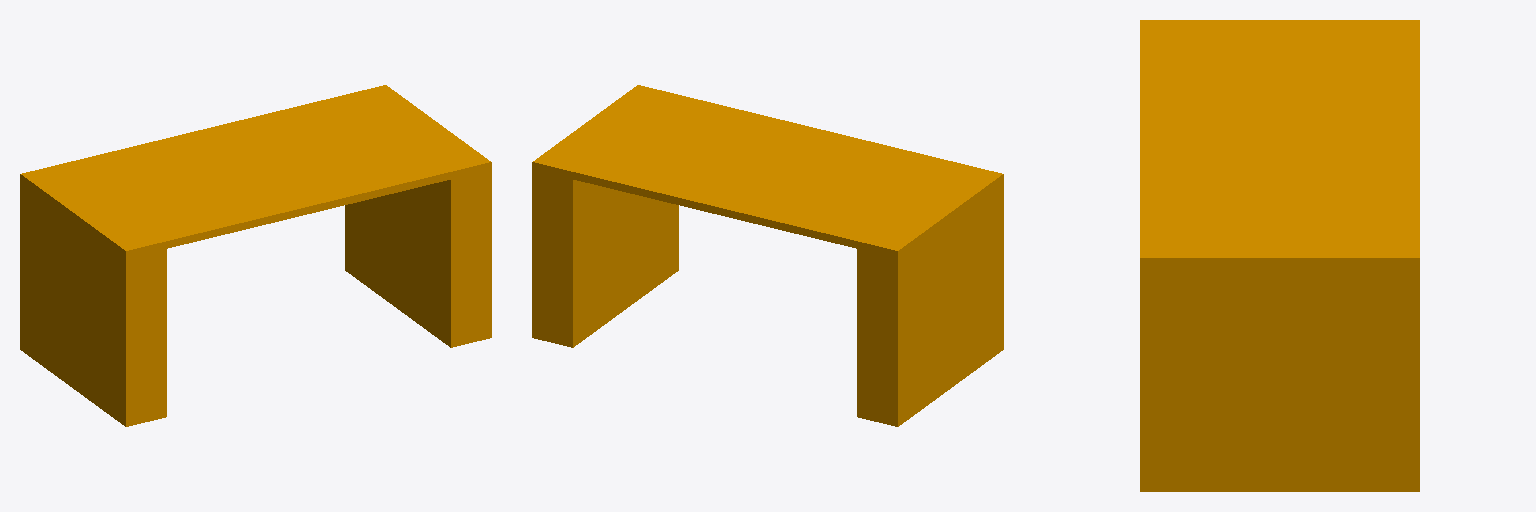
URDF robot description (uw_demo_table):
<robot name="uw_demo_table">
  <link name="base_link">
    <!-- NOTE: Collision geometry is simplified: just three boxes. -->
    <!-- Tabletop Collision Geometry -->
    <collision>
      <origin xyz="0 0 0.7206"/>
      <geometry>
        <box size="1.6 0.8001 0.03175"/>
      </geometry>
    </collision>
    <!-- Left Leg Collision Geometry -->
    <collision>
      <origin xyz="0.7111 0 0.358775"/>
      <geometry>
        <box size="0.1778 0.8001 0.71755"/>
      </geometry>
    </collision>
    <!-- Right Leg Collision Geometry -->
    <collision>
      <origin xyz="-0.7111 0 0.358775"/>
      <geometry>
      <box size="0.1778 0.8001 0.71755"/>
      </geometry>
    </collision>
    <!-- NOTE: Visual Geometry is more detailed than collision geometry. -->
    <!-- Tabletop Visual Geometry -->
    <visual>
      <origin xyz="0 0 0.7206"/>
      <geometry>
        <box size="1.6 0.8001 0.03175"/>
      </geometry>
    </visual>
    <!-- Left Leg Visual Geometry -->
    <visual>
      <origin xyz="0.7111 0 0.358775"/>
      <geometry>
        <box size="0.1778 0.8001 0.71755"/>
      </geometry>
    </visual>
    <!-- Right Leg Visual Geometry -->
    <visual>
      <origin xyz="-0.7111 0 0.358775"/>
      <geometry>
      <box size="0.1778 0.8001 0.71755"/>
      </geometry>
    </visual>
  </link>
</robot>

--- Facts derived from the render (not from the file) ---
3 views of the same robot in one strip: view 1: azimuth 30°, elevation 25°; view 2: azimuth 150°, elevation 25°; view 3: azimuth 270°, elevation 25° (orthographic).
Model uw_demo_table with 1 links and 0 joints (none), rooted at base_link, posed every joint at zero.
Visible links, largest first — view 1: base_link; view 2: base_link; view 3: base_link.
Link boxes in pixels (box(x1,y1,x2,y2)): base_link: box(20, 85, 491, 426); base_link: box(532, 85, 1003, 426); base_link: box(1140, 20, 1419, 491).
Size in the robot's own frame: 1.6 by 0.8001 by 0.7365 metres.
Geometry: primitives only (box / cylinder / sphere), no mesh files.